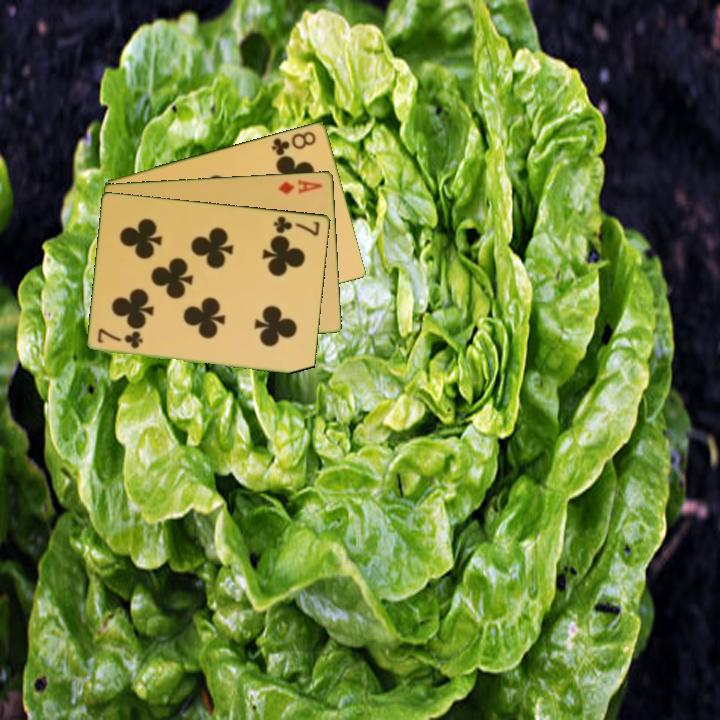7c: (270, 212, 323, 238), (94, 327, 146, 351)
8c: (268, 127, 319, 158)
Ad: (275, 175, 325, 197)
